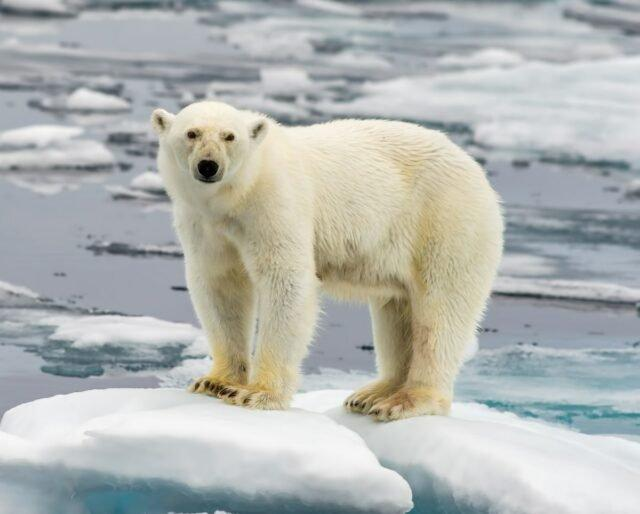bear: (153, 99, 505, 425)
